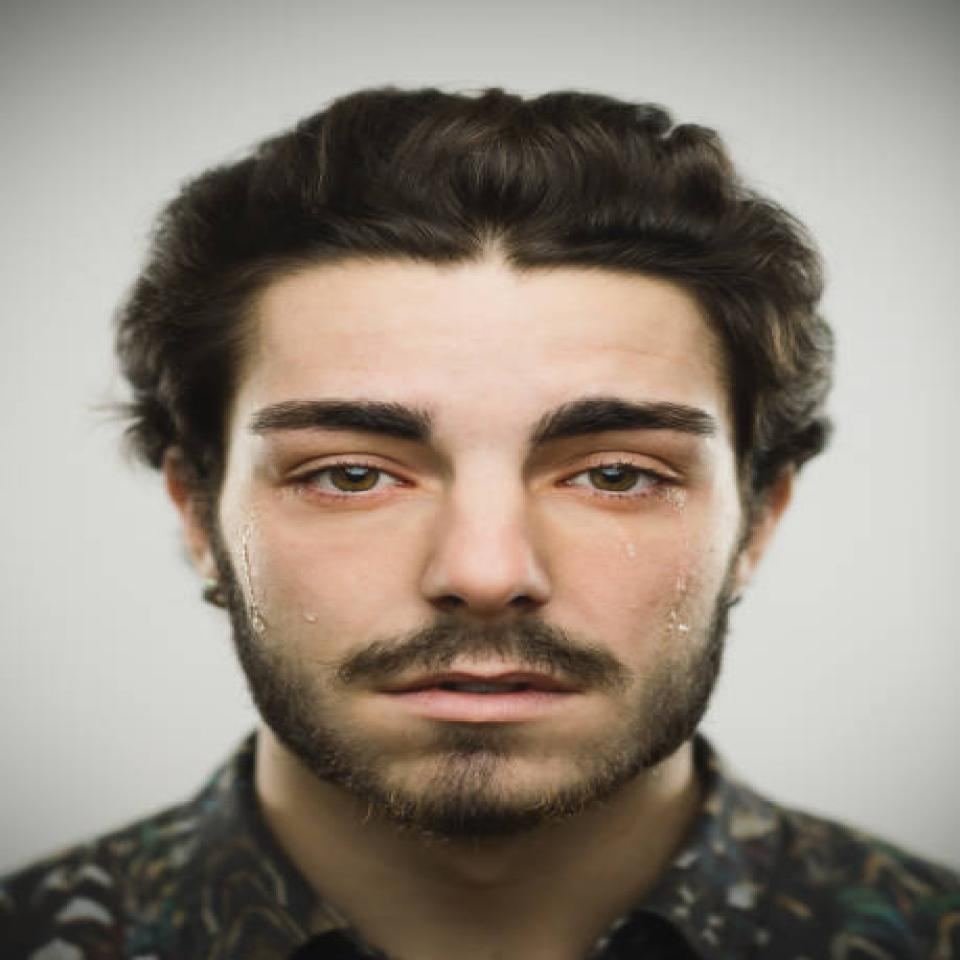Sadness: (211, 282, 758, 818)
